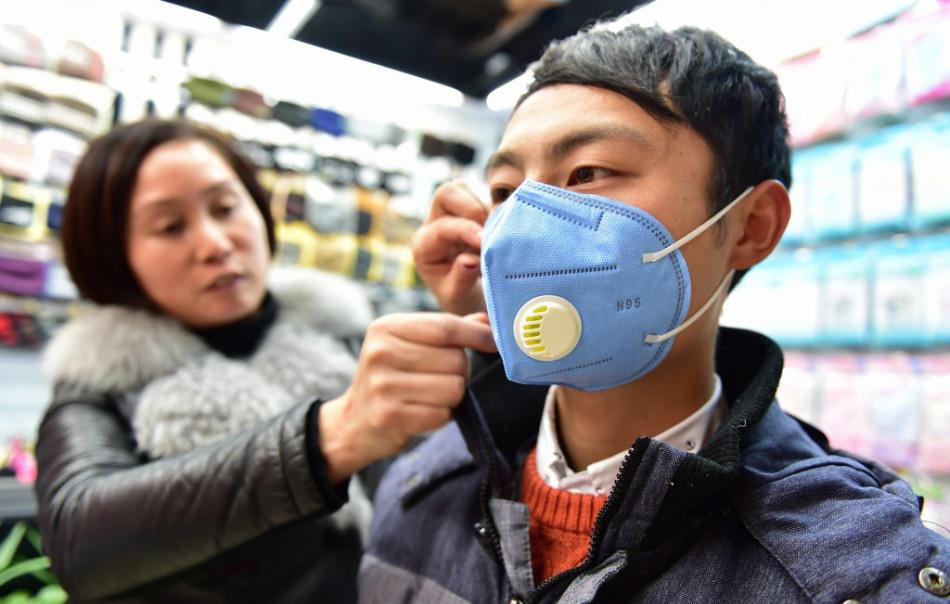NONE: (136, 178, 270, 318)
OK: (471, 119, 735, 383)
